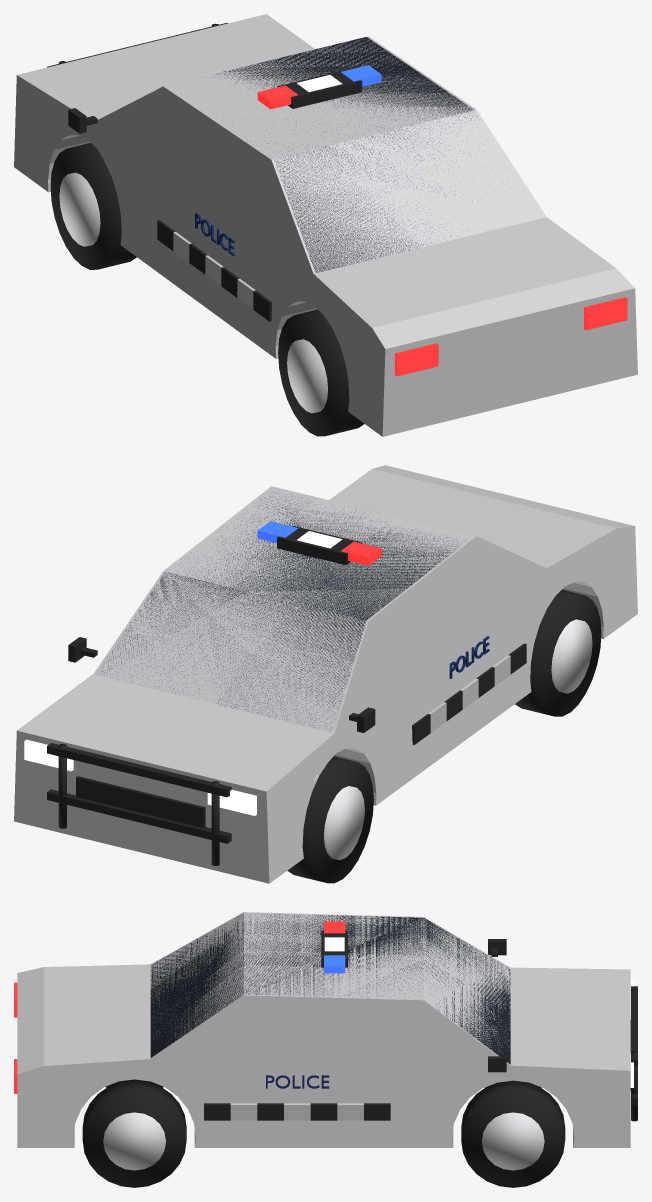
The model's file is police_car.glb.
The picture shows the model from 3 angles, top to bottom: view 1: azimuth 30°, elevation 25°; view 2: azimuth 150°, elevation 25°; view 3: azimuth 270°, elevation 25°; orthographic projection. The views are drawn at different scales.
Visible parts, largest first — view 1: GEO-car_body, GEO-glass_cabin, GEO-tire_FL, GEO-tire_RL, GEO-rim_FL, GEO-rim_RL, GEO-lightbar_base, GEO-taillight_R, GEO-taillight_L, GEO-light_red; view 2: GEO-car_body, GEO-glass_cabin, GEO-tire_FL, GEO-tire_RL, GEO-grille, GEO-rim_FL, GEO-rim_RL, GEO-pushbar_h_0.9, GEO-pushbar_h_0.58, GEO-lightbar_base, GEO-headlight_L, GEO-headlight_R (+3 smaller); view 3: GEO-car_body, GEO-glass_cabin, GEO-tire_RR, GEO-tire_FR, GEO-rim_FR, GEO-rim_RR, GEO-pushbar_h_0.9, GEO-check_1_1, GEO-check_1_4, GEO-check_1_0, GEO-check_1_2, GEO-check_1_3 (+5 smaller).
Boxes of the visible parts, x1=… form: GEO-car_body: x1=14, y1=14, x2=637, y2=436; GEO-glass_cabin: x1=216, y1=37, x2=477, y2=272; GEO-tire_FL: x1=50, y1=143, x2=136, y2=269; GEO-tire_RL: x1=278, y1=309, x2=364, y2=436; GEO-rim_FL: x1=59, y1=172, x2=100, y2=246; GEO-rim_RL: x1=287, y1=339, x2=327, y2=413; GEO-lightbar_base: x1=277, y1=69, x2=362, y2=108; GEO-taillight_R: x1=584, y1=297, x2=627, y2=330; GEO-taillight_L: x1=395, y1=343, x2=438, y2=376; GEO-light_red: x1=257, y1=85, x2=297, y2=109; GEO-car_body: x1=14, y1=465, x2=637, y2=883; GEO-glass_cabin: x1=96, y1=492, x2=458, y2=731; GEO-tire_FL: x1=287, y1=756, x2=373, y2=883; GEO-tire_RL: x1=515, y1=590, x2=601, y2=716; GEO-grille: x1=76, y1=776, x2=205, y2=827; GEO-rim_FL: x1=324, y1=786, x2=364, y2=860; GEO-rim_RL: x1=551, y1=619, x2=592, y2=693; GEO-pushbar_h_0.9: x1=47, y1=743, x2=231, y2=797; GEO-pushbar_h_0.58: x1=47, y1=789, x2=231, y2=843; GEO-lightbar_base: x1=277, y1=526, x2=362, y2=564; GEO-headlight_L: x1=207, y1=790, x2=256, y2=815; GEO-headlight_R: x1=24, y1=739, x2=73, y2=771; GEO-car_body: x1=17, y1=912, x2=630, y2=1147; GEO-glass_cabin: x1=150, y1=913, x2=510, y2=1064; GEO-tire_RR: x1=82, y1=1080, x2=186, y2=1187; GEO-tire_FR: x1=461, y1=1080, x2=565, y2=1187; GEO-rim_FR: x1=482, y1=1112, x2=544, y2=1170; GEO-rim_RR: x1=103, y1=1112, x2=165, y2=1170; GEO-pushbar_h_0.9: x1=631, y1=986, x2=637, y2=1065; GEO-check_1_1: x1=230, y1=1103, x2=257, y2=1120; GEO-check_1_4: x1=310, y1=1103, x2=337, y2=1120; GEO-check_1_0: x1=204, y1=1103, x2=230, y2=1120; GEO-check_1_2: x1=257, y1=1103, x2=283, y2=1120; GEO-check_1_3: x1=284, y1=1103, x2=310, y2=1120.
Bounding box in the file's own units: 2.13 × 1.58 × 4.68.
